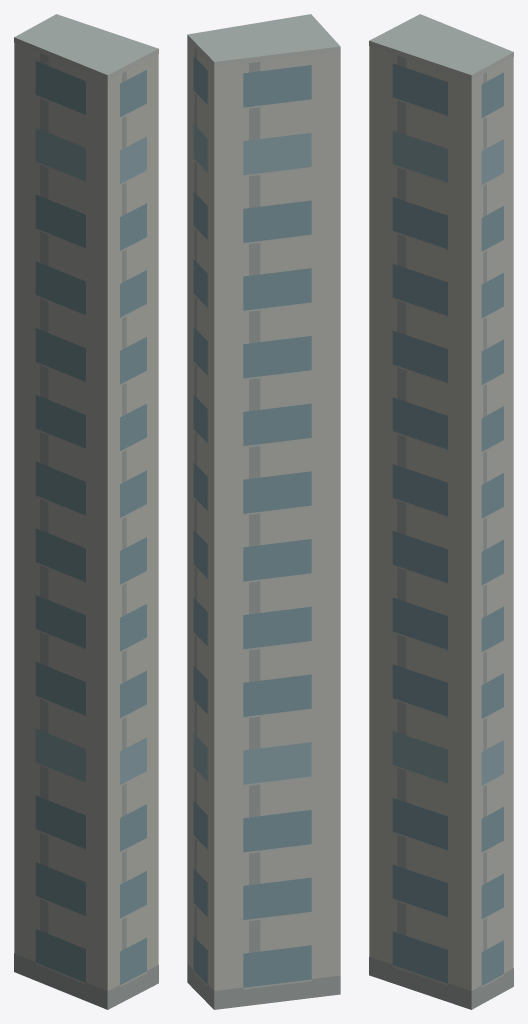
File: survey-upis-32968857.glb
3 views of the same model, side by side, from view 1: azimuth 90°, elevation 25°; view 2: azimuth 150°, elevation 25°; view 3: azimuth 270°, elevation 25° (orthographic).
Parts seen in each view (by area): view 1: survey-upis-32968857.tmp; view 2: survey-upis-32968857.tmp; view 3: survey-upis-32968857.tmp.
Part boxes in pixels (x1,y1,x2,y2): survey-upis-32968857.tmp: (14,14,158,1009); survey-upis-32968857.tmp: (187,14,340,1009); survey-upis-32968857.tmp: (369,14,513,1009).
Size of the model in its own units: 6.01 by 42.7 by 6.
